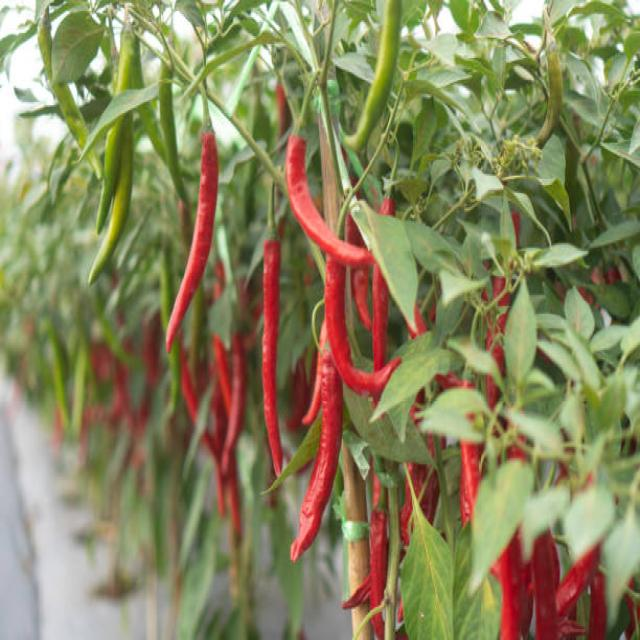Ripe: (166, 129, 219, 352), (285, 135, 374, 265), (290, 347, 342, 562), (325, 257, 400, 395), (262, 184, 282, 475), (372, 262, 389, 370)
Unripe: (36, 29, 102, 177), (345, 0, 401, 151), (89, 114, 132, 284), (159, 62, 188, 203), (532, 49, 564, 154), (96, 118, 124, 232)
